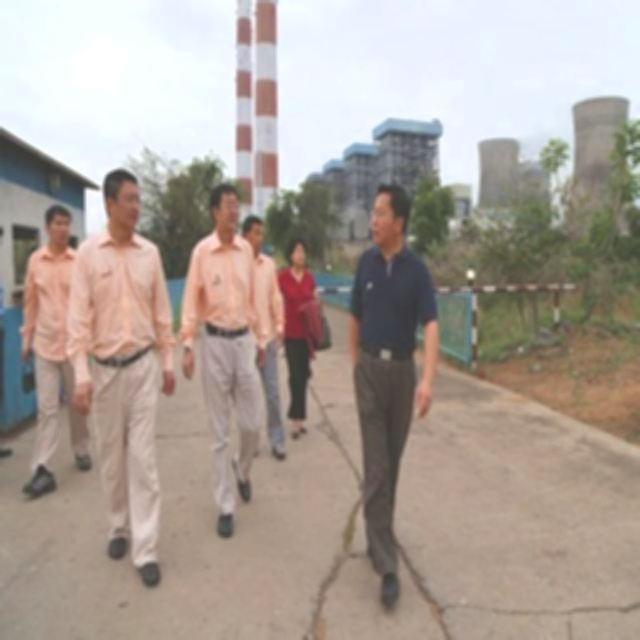Sin_Casco_Mascarrilla: (102, 168, 140, 232), (369, 181, 408, 243), (211, 183, 241, 234)
